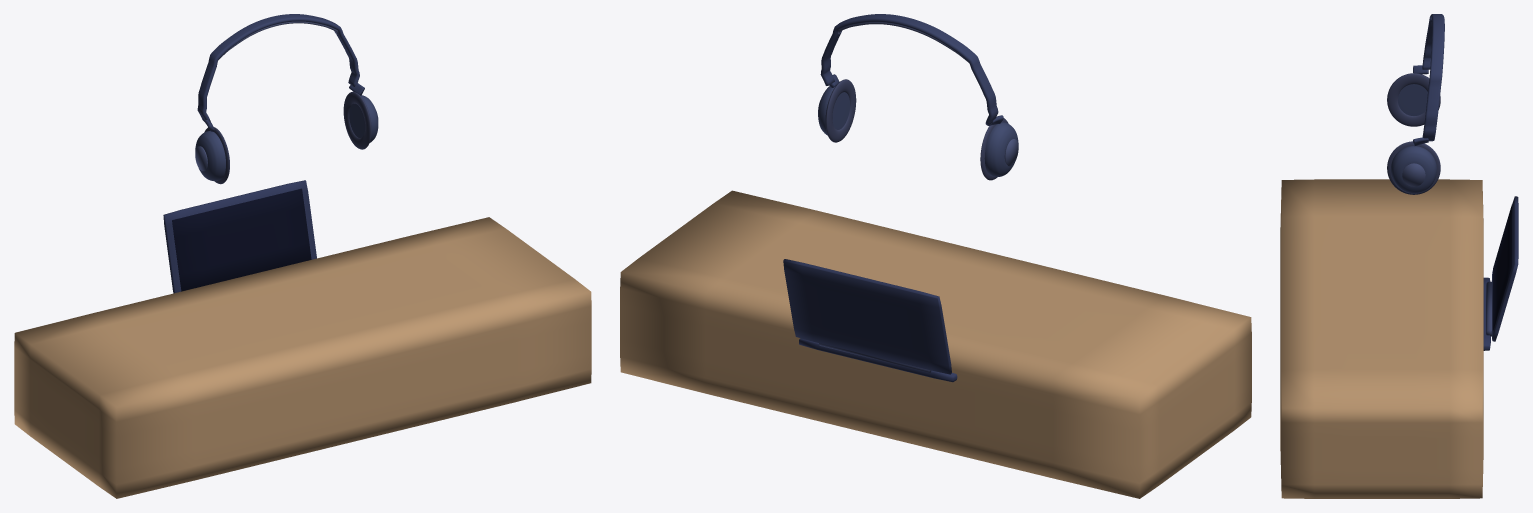
Rendered from props.glb.
3 views of the same model, side by side, from view 1: azimuth 30°, elevation 25°; view 2: azimuth 150°, elevation 25°; view 3: azimuth 270°, elevation 25° (orthographic). The views are drawn at different scales.
Parts seen in each view (by area): view 1: desk_slab, laptop_screen, laptop_lid_shell, hp_band, hp_cup_R, hp_pad_L, hp_cup_L; view 2: desk_slab, laptop_lid_shell, hp_band, hp_cup_R, hp_pad_L, laptop_base, hp_cup_L; view 3: desk_slab, hp_band, hp_cup_L, laptop_screen, hp_pad_R, laptop_lid_shell, hp_cup_R, hp_pad_L, hp_plate_L, laptop_hinge, laptop_base.
Part boxes in pixels (box(x1,y1,x2,y2)): desk_slab: box(14, 217, 591, 498); laptop_screen: box(172, 188, 311, 291); laptop_lid_shell: box(163, 180, 316, 293); hp_band: box(197, 14, 359, 121); hp_cup_R: box(195, 131, 225, 181); hp_pad_L: box(343, 91, 371, 149); hp_cup_L: box(349, 95, 378, 142); desk_slab: box(620, 190, 1251, 498); laptop_lid_shell: box(783, 259, 951, 374); hp_band: box(820, 14, 998, 125); hp_cup_R: box(984, 122, 1018, 177); hp_pad_L: box(825, 79, 856, 142); laptop_base: box(799, 338, 957, 382); hp_cup_L: box(818, 86, 849, 135); desk_slab: box(1280, 179, 1483, 498); hp_band: box(1422, 14, 1444, 141); hp_cup_L: box(1390, 146, 1436, 193); laptop_screen: box(1493, 204, 1512, 330); hp_pad_R: box(1387, 73, 1440, 126); laptop_lid_shell: box(1491, 196, 1518, 341); hp_cup_R: box(1398, 84, 1427, 115); hp_pad_L: box(1387, 141, 1440, 194); hp_plate_L: box(1402, 163, 1425, 186); laptop_hinge: box(1486, 281, 1491, 336); laptop_base: box(1483, 277, 1490, 350).
Size of the model in its own units: 5.2 by 3.81 by 2.28.
